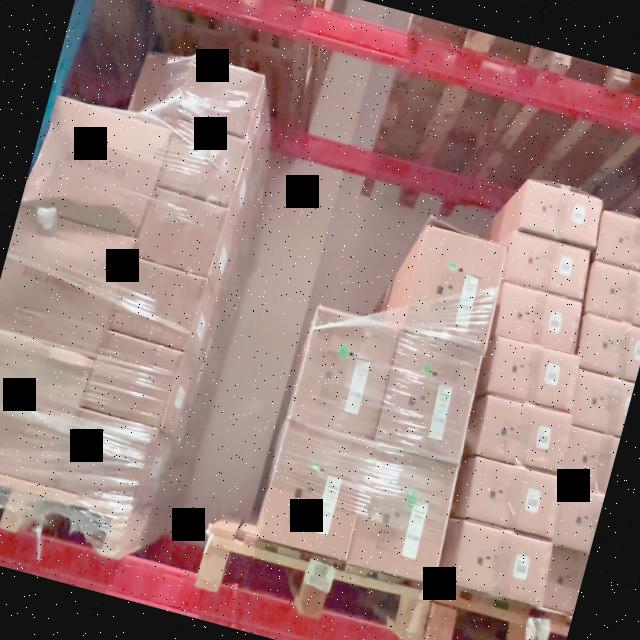box: (257, 422, 374, 555), (289, 307, 400, 439), (348, 450, 456, 582), (376, 336, 479, 456), (404, 228, 506, 344), (86, 337, 180, 423), (111, 260, 202, 345), (464, 460, 564, 534), (451, 524, 552, 597), (136, 189, 222, 273), (62, 418, 149, 501), (161, 122, 245, 205), (476, 397, 572, 469), (180, 55, 263, 135), (487, 340, 579, 408), (506, 232, 589, 297), (497, 290, 582, 350), (520, 183, 601, 242)
